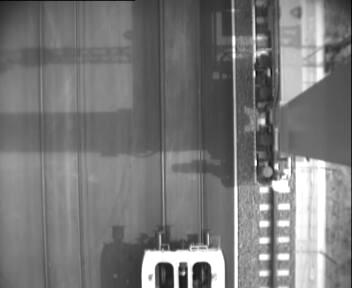wagon_scan: (149, 258, 215, 288)
